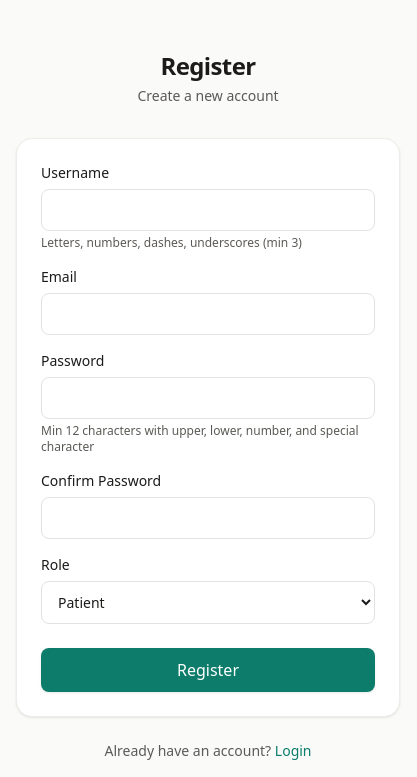
RegisterPage › shows client-side password length error for weak password
Type "newuser" into the field named "username".
click(208, 210); type("newuser")  # box x1=41 y1=188 x2=375 y2=230
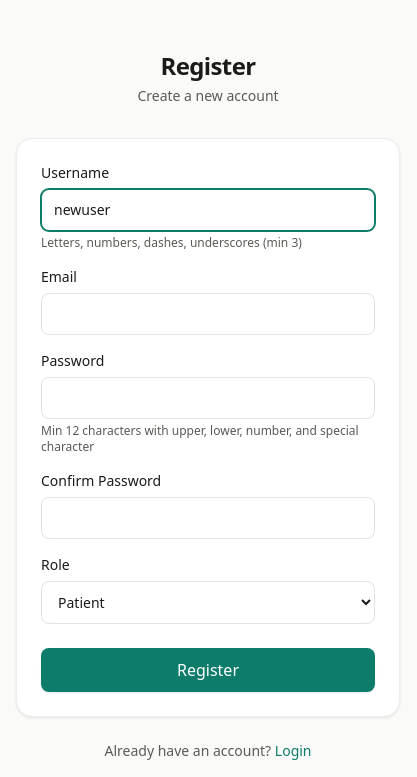
Type "new@test.com" into the field named "email".
click(208, 314); type("new@test.com")  # box x1=41 y1=292 x2=375 y2=334
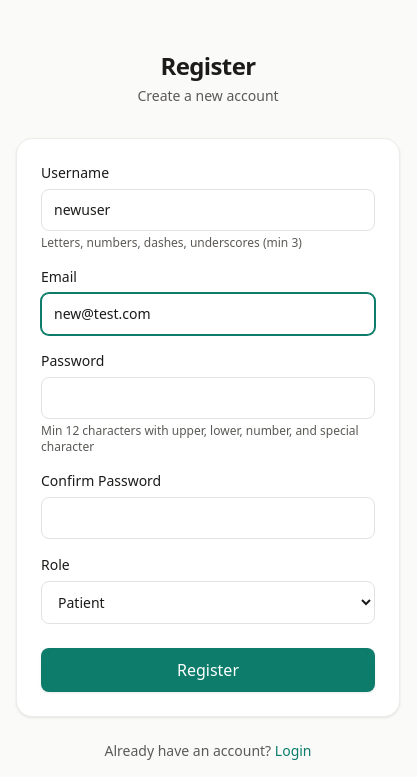
Type "123456" into the password field named "password".
click(208, 398); type("123456")  # box x1=41 y1=376 x2=375 y2=418
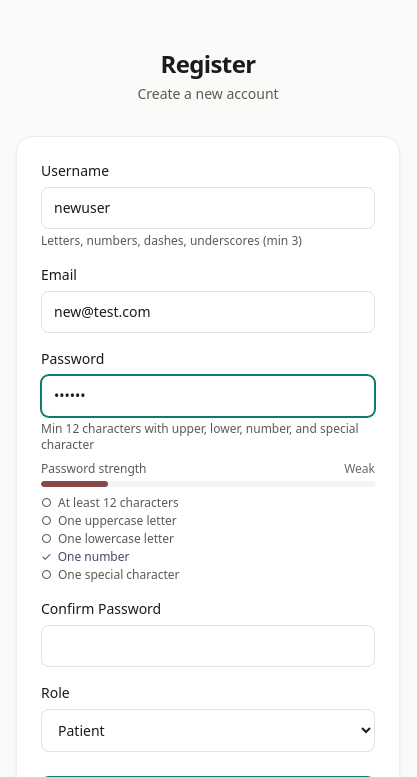
Type "123456" into the password field named "confirmPassword".
click(208, 646); type("123456")  # box x1=41 y1=625 x2=375 y2=667
(page scrolled)
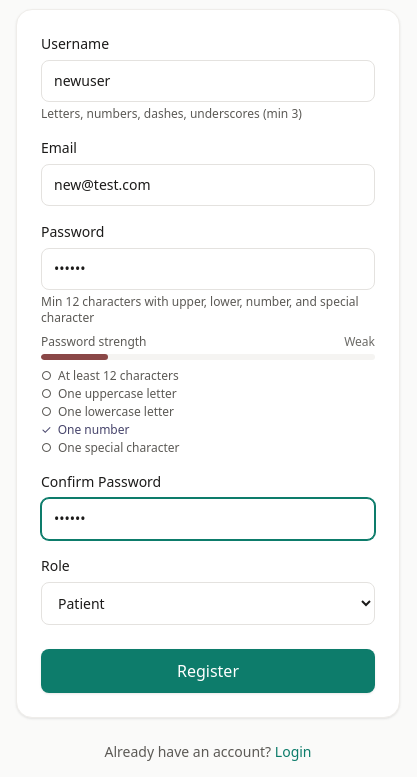
Click the button "Register".
click(208, 671)  # box x1=41 y1=649 x2=375 y2=693
(page scrolled)
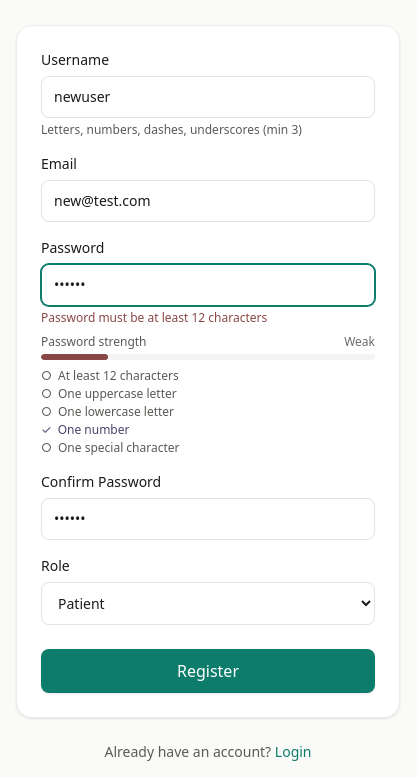
Result: the text "Password must be at least 12 characters" is shown at x1=41 y1=309 x2=267 y2=326
